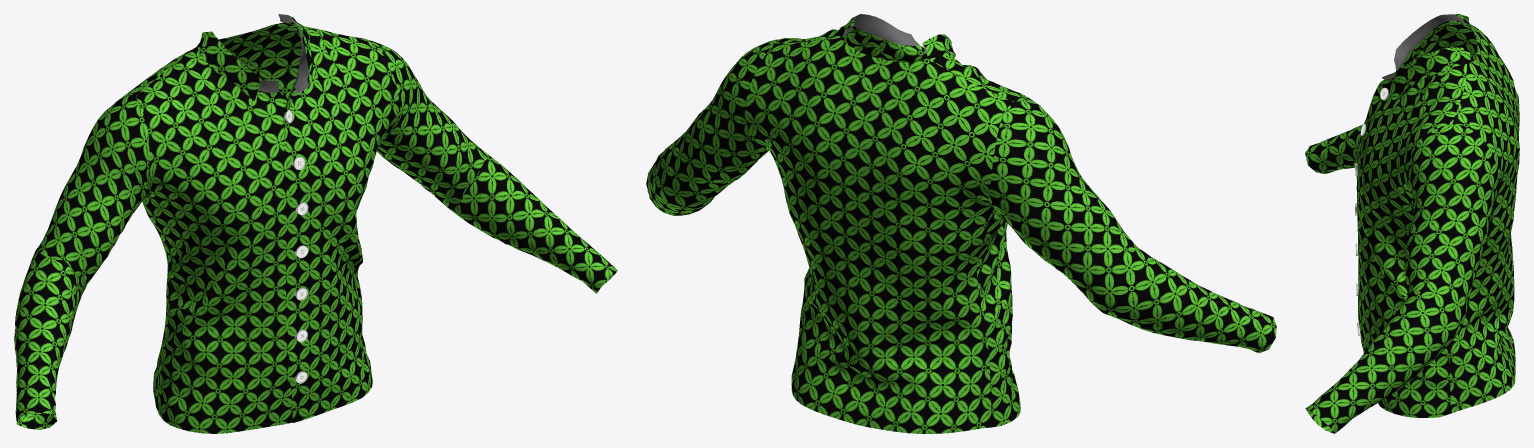
Rendered from Baju_Panjang.fbx.
The picture shows the model from 3 angles, left to right: view 1: azimuth 30°, elevation 25°; view 2: azimuth 150°, elevation 25°; view 3: azimuth 270°, elevation 25°; orthographic projection. The views are drawn at different scales.
Parts seen in each view (by area): view 1: Baju_Panjang.001; view 2: Baju_Panjang.001; view 3: Baju_Panjang.001.
Boxes of the visible parts, x1,y1,x2,y2 form: Baju_Panjang.001: (14, 14, 617, 433); Baju_Panjang.001: (646, 14, 1276, 433); Baju_Panjang.001: (1305, 14, 1519, 433).
Bounding box in the file's own units: 1060 × 619 × 349.
Materials: 4 (2 with a texture image).
